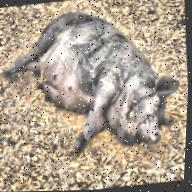boar: (0, 0, 190, 164)
